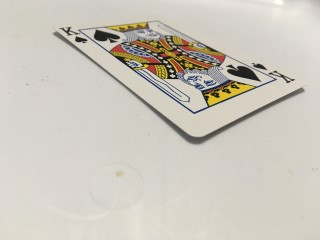KingOfSpades: (54, 14, 306, 138)
